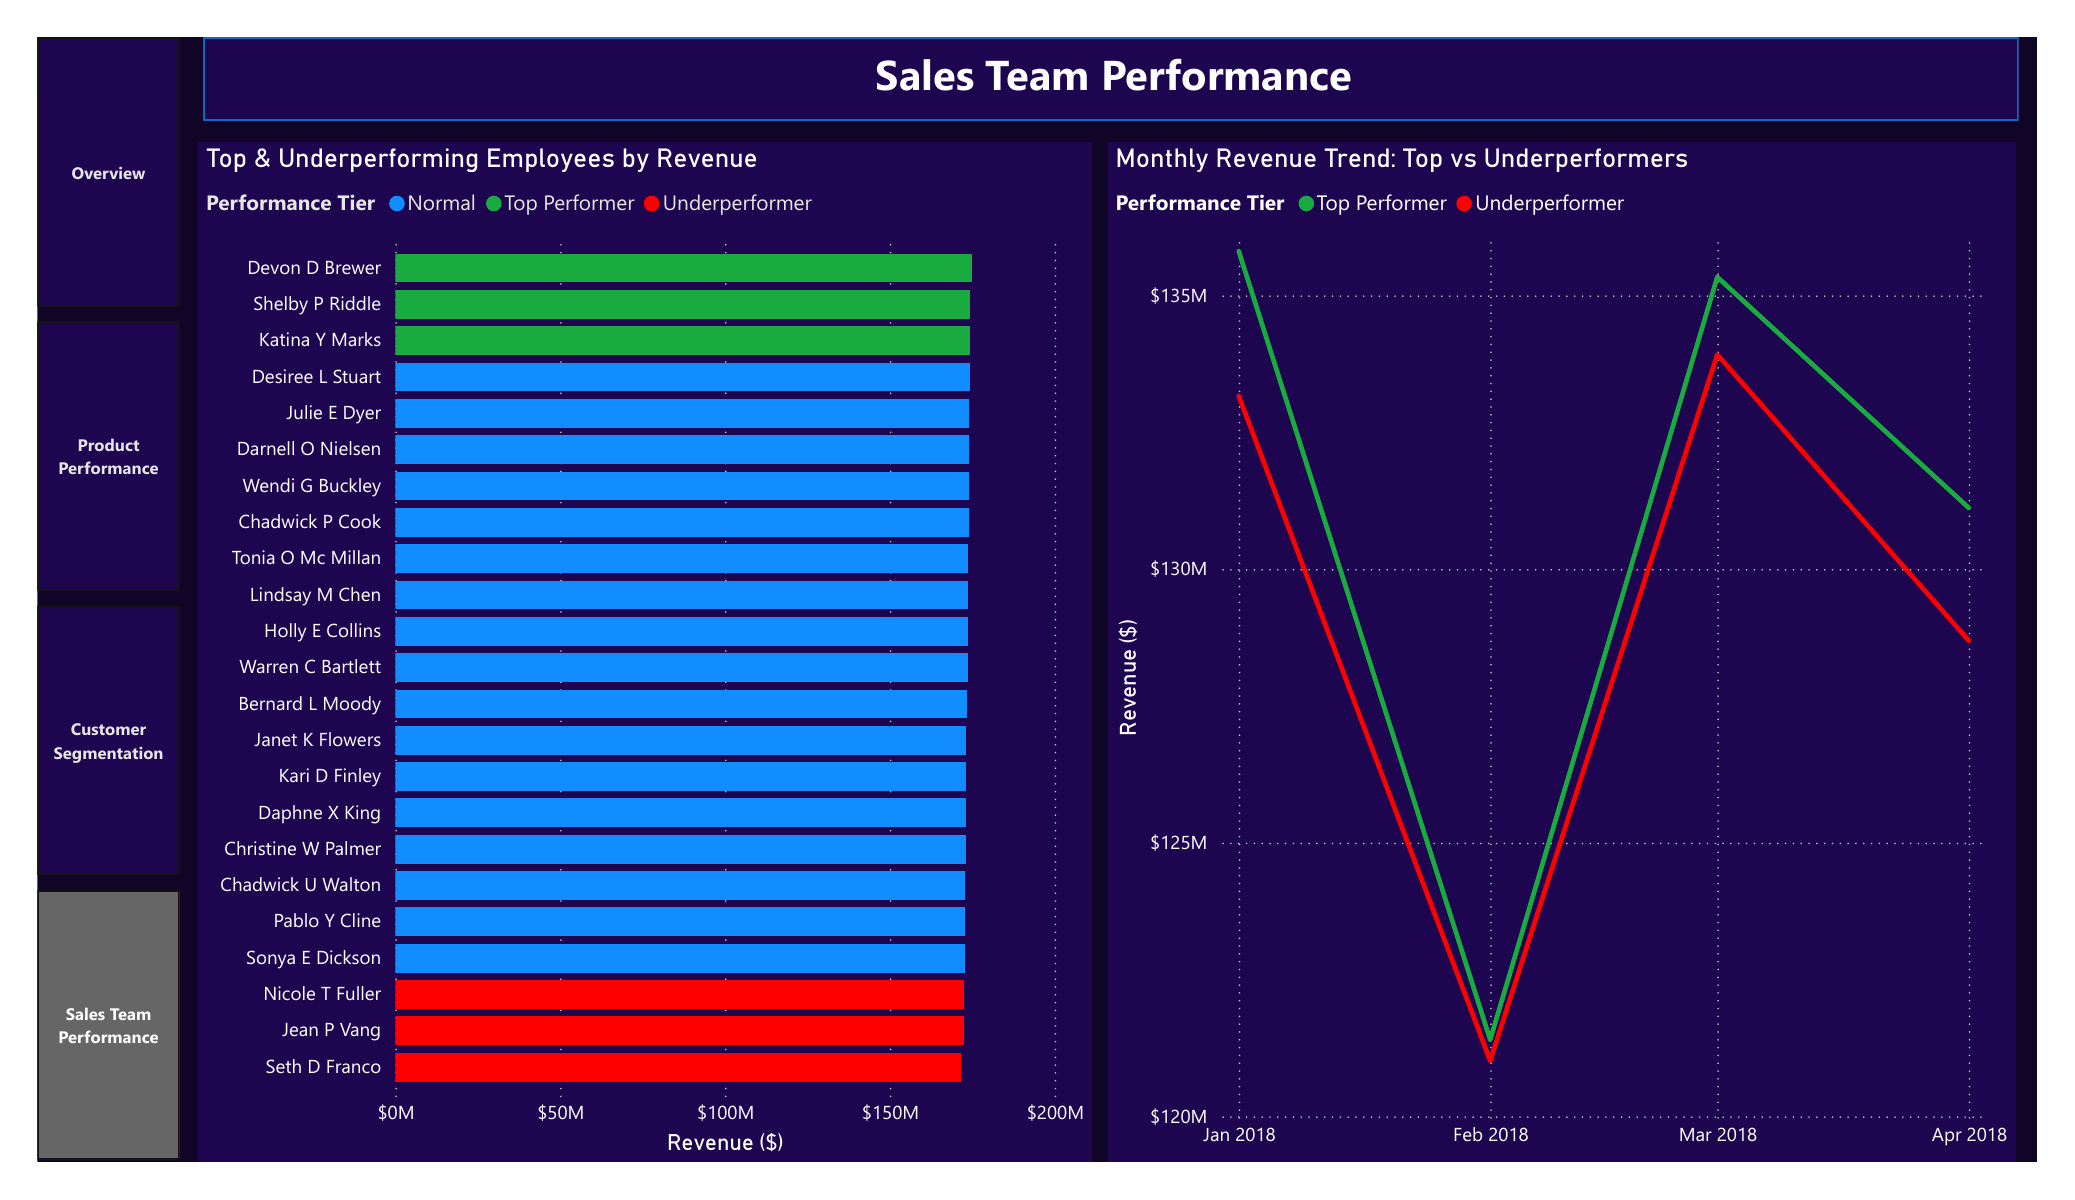

The dashboard page shown, as its layout file describes it:
{"tool":"powerbi","page":{"name":"Sales Team Performance","canvas":[1280,720],"ordinal":3},"visuals":[{"type":"pageNavigator","box":[0,0,91.2,720],"z":0},{"type":"shape","box":[105.5,0,1162,52.6],"z":0,"group":"g1"},{"type":"textbox","box":[110.6,0,1155.7,52.8],"z":1000,"group":"g1"},{"type":"barChart","title":"Top & Underperforming Employees by Revenue","fields":{"Y":["Sum(fmcg vw_employee_performance.total_revenue)"],"Series":["fmcg vw_employee_performance.performance_tier"],"Category":["fmcg vw_employee_performance.employee_name"]},"box":[103.1,67.5,571.8,652.8],"z":1000},{"type":"lineChart","title":"Monthly Revenue Trend: Top vs Underperformers","fields":{"Category":["fmcg vw_employee_monthly_trend.month"],"Y":["Sum(fmcg vw_employee_monthly_trend.monthly_revenue)"],"Series":["fmcg vw_employee_performance.performance_tier"]},"box":[684.7,67.5,581.6,652.8],"z":2000},{"type":"group","id":"g1","title":"Group 3","box":[105.5,0,1162,52.8],"z":3000}]}

Visuals, with their boxes on the page's 1280x720 design canvas (x1, y1, x2, y2). These are canvas units, not pixel positions in the 2075x1200 screenshot, which may show the page scaled, cropped or inside an application window:
pageNavigator: x1=0, y1=0, x2=91, y2=720
shape: x1=106, y1=0, x2=1268, y2=53
textbox: x1=111, y1=0, x2=1266, y2=53
"Top & Underperforming Employees by Revenue" barChart: x1=103, y1=68, x2=675, y2=720
"Monthly Revenue Trend: Top vs Underperformers" lineChart: x1=685, y1=68, x2=1266, y2=720
"Group 3" group: x1=106, y1=0, x2=1268, y2=53
